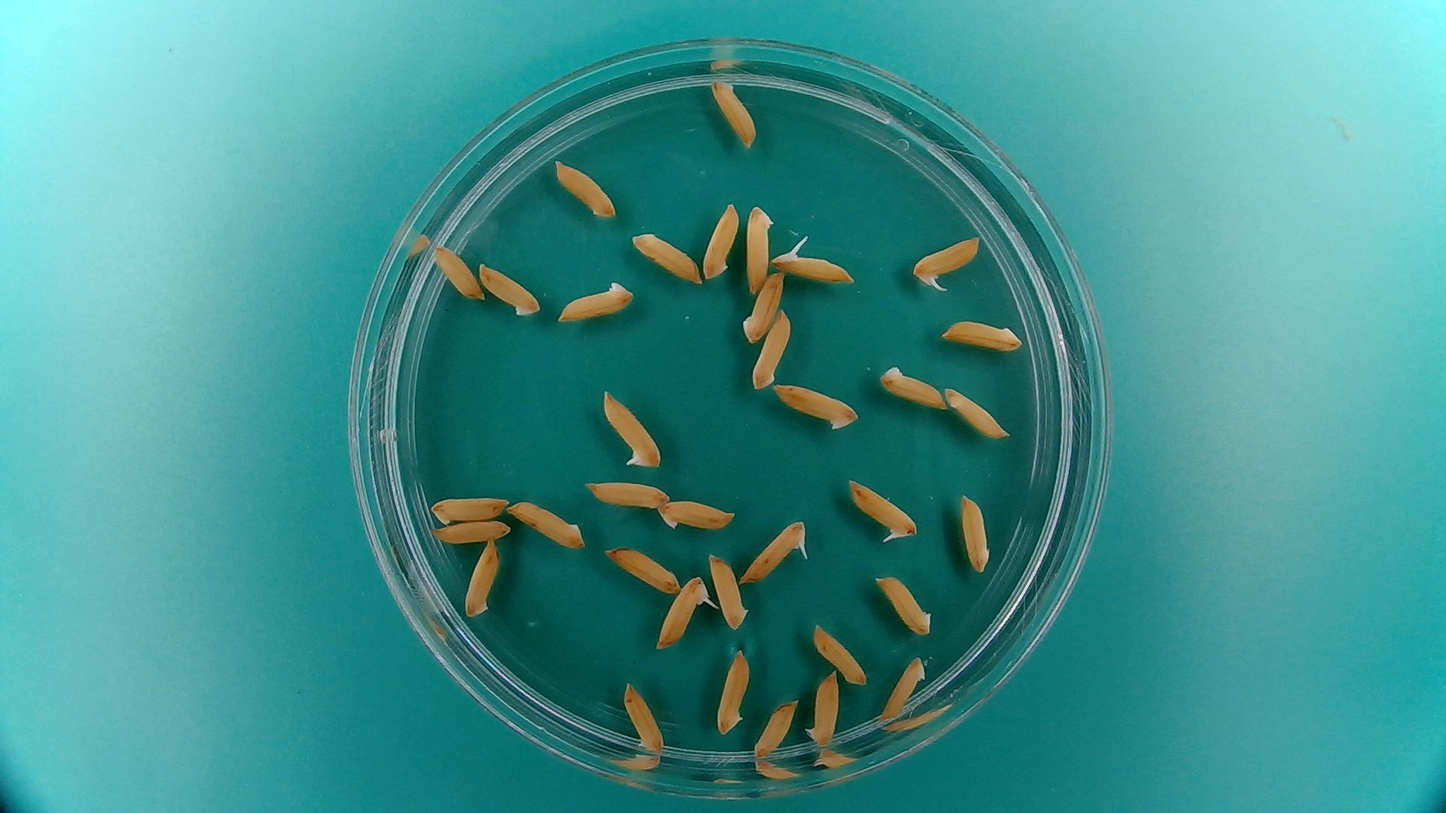no: (769, 379, 861, 432), (504, 495, 587, 551), (870, 570, 938, 638), (628, 230, 705, 286), (551, 157, 618, 219), (706, 78, 760, 154), (554, 276, 638, 324), (602, 544, 681, 595), (475, 260, 543, 319), (939, 313, 1025, 358), (811, 622, 870, 687), (944, 383, 1011, 440), (748, 307, 793, 391), (621, 678, 669, 756), (876, 361, 949, 412), (713, 643, 752, 738), (740, 268, 786, 345), (707, 550, 749, 634), (878, 653, 929, 722), (430, 240, 486, 302), (462, 537, 504, 618), (743, 200, 776, 297), (701, 199, 740, 281), (656, 495, 739, 533), (582, 477, 670, 512), (959, 490, 994, 574), (752, 699, 800, 760), (427, 493, 512, 525), (431, 519, 510, 547)
yes: (599, 386, 664, 472), (843, 474, 921, 544), (737, 516, 811, 585), (654, 573, 713, 651), (908, 231, 983, 292), (770, 239, 860, 285), (803, 666, 841, 748)
